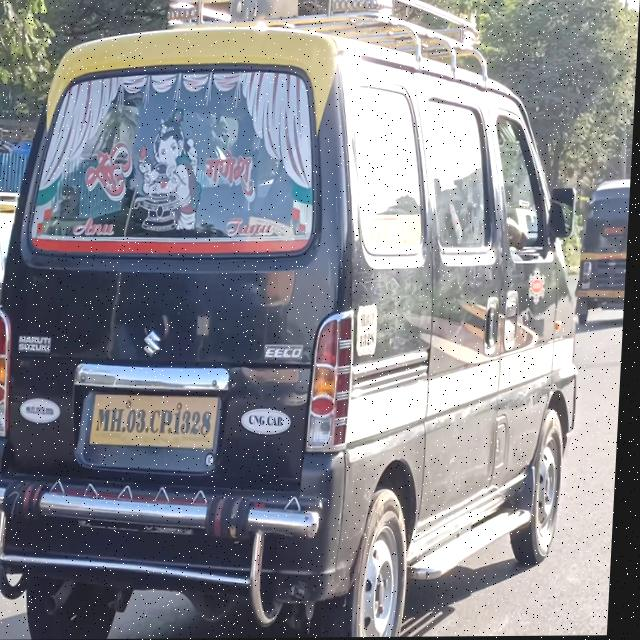plate: (90, 390, 225, 452)
